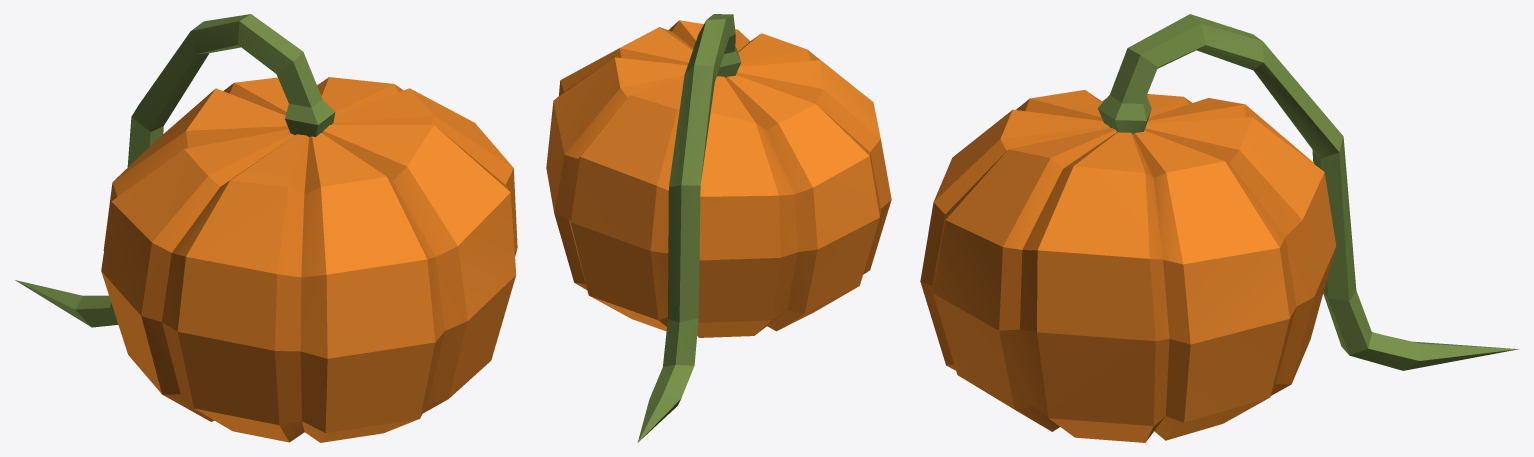
Rendered from pumpkin001.gltf.
The picture shows the model from 3 angles, left to right: view 1: azimuth 30°, elevation 25°; view 2: azimuth 150°, elevation 25°; view 3: azimuth 270°, elevation 25°; orthographic projection. The views are drawn at different scales.
Visible parts, largest first — view 1: node_SM_Prop_Pumpkin_01_L_-44096; view 2: node_SM_Prop_Pumpkin_01_L_-44096; view 3: node_SM_Prop_Pumpkin_01_L_-44096.
Part boxes in pixels (x1,y1,x2,y2): node_SM_Prop_Pumpkin_01_L_-44096: (15, 14, 517, 442); node_SM_Prop_Pumpkin_01_L_-44096: (546, 14, 891, 442); node_SM_Prop_Pumpkin_01_L_-44096: (920, 14, 1519, 442).
Size of what is drawn, in the model's own units: 0.4132 by 0.4065 by 0.5956.
Materials: 1 (1 with a texture image).
